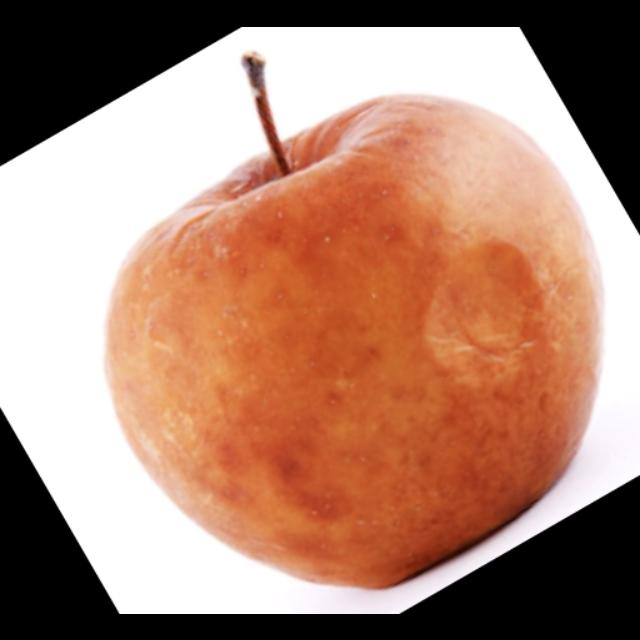Apel Tidak Segar: (106, 90, 601, 591)
